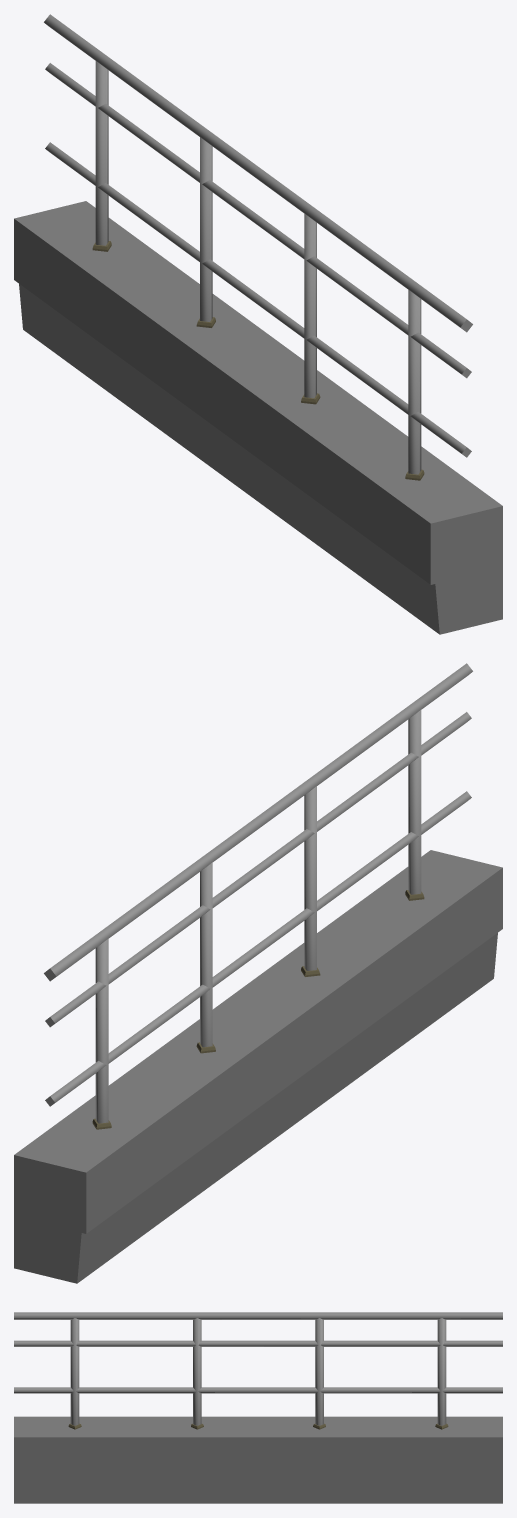
Rendered from SW_ENV_StationStair_Opening_C02_FF.fbx.
The picture shows the model from 3 angles, top to bottom: view 1: azimuth 30°, elevation 25°; view 2: azimuth 150°, elevation 25°; view 3: azimuth 270°, elevation 25°; orthographic projection. The views are drawn at different scales.
Parts seen in each view (by area): view 1: SW_ENV_StationStair_Opening_C02_FF; view 2: SW_ENV_StationStair_Opening_C02_FF; view 3: SW_ENV_StationStair_Opening_C02_FF.
Part boxes in pixels (box(x1,y1,x2,y2)): SW_ENV_StationStair_Opening_C02_FF: box(14, 14, 502, 634); SW_ENV_StationStair_Opening_C02_FF: box(14, 663, 502, 1283); SW_ENV_StationStair_Opening_C02_FF: box(14, 1312, 502, 1503).
Bounding box in the file's own units: 0.4 × 1.64 × 4.
